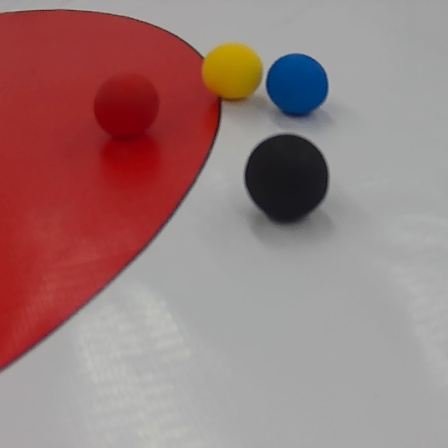black: (241, 132, 329, 222)
blue: (265, 52, 330, 117)
red: (89, 70, 159, 136)
red_base: (0, 7, 220, 374)
yellow: (202, 41, 262, 101)
